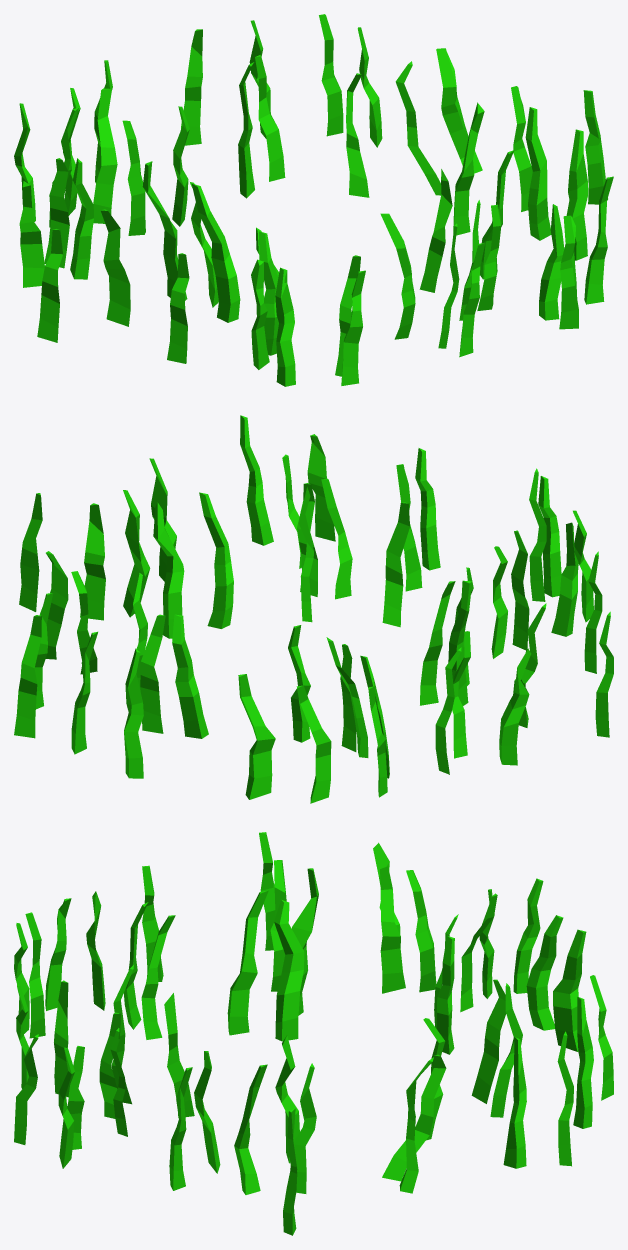
Rendered from treeready.fbx.
The picture shows the model from 3 angles, top to bottom: view 1: azimuth 30°, elevation 25°; view 2: azimuth 150°, elevation 25°; view 3: azimuth 270°, elevation 25°; orthographic projection. The views are drawn at different scales.
Parts seen in each view (by area): view 1: Cube; view 2: Cube; view 3: Cube.
Boxes of the visible parts, x1,y1,x2,y2 form: Cube: (14, 14, 613, 386); Cube: (14, 415, 613, 803); Cube: (14, 832, 613, 1235).
Size of the model in its own units: 501 by 126 by 442.
